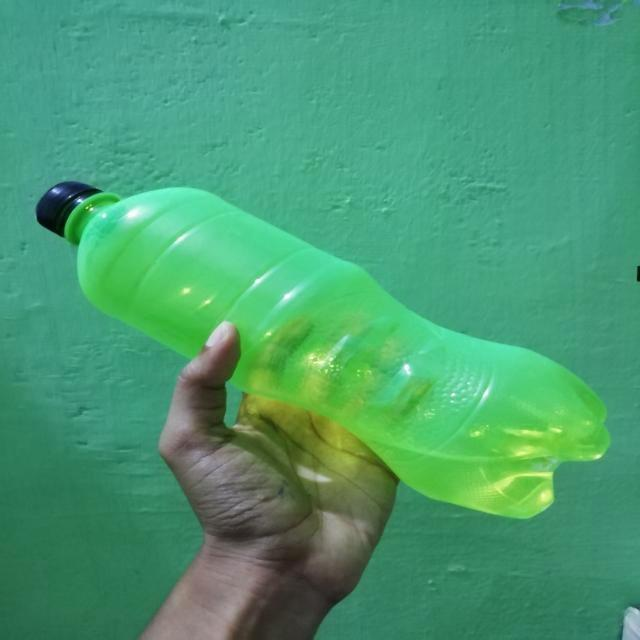bottle: (35, 180, 612, 520)
